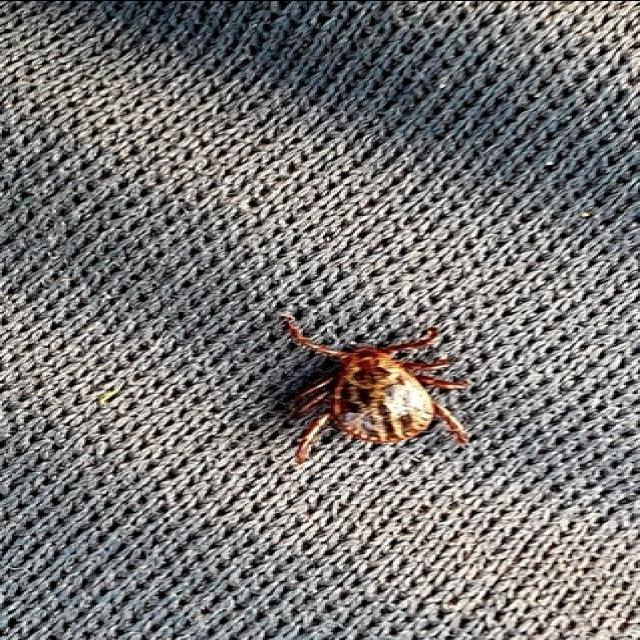Dermacentor Reticulatus-M: (281, 315, 469, 462)
